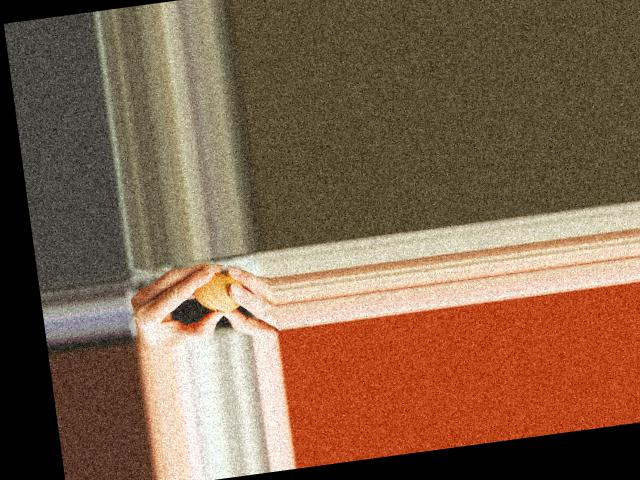egg: (192, 268, 246, 316)
